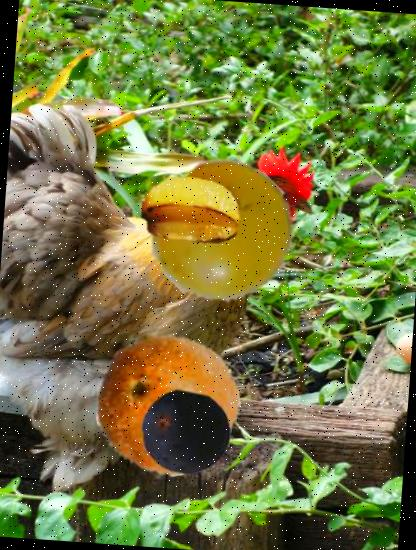Carambula: (138, 156, 245, 263)
Grape: (147, 156, 300, 309), (138, 385, 233, 480)
Kiwi: (90, 326, 245, 481)
